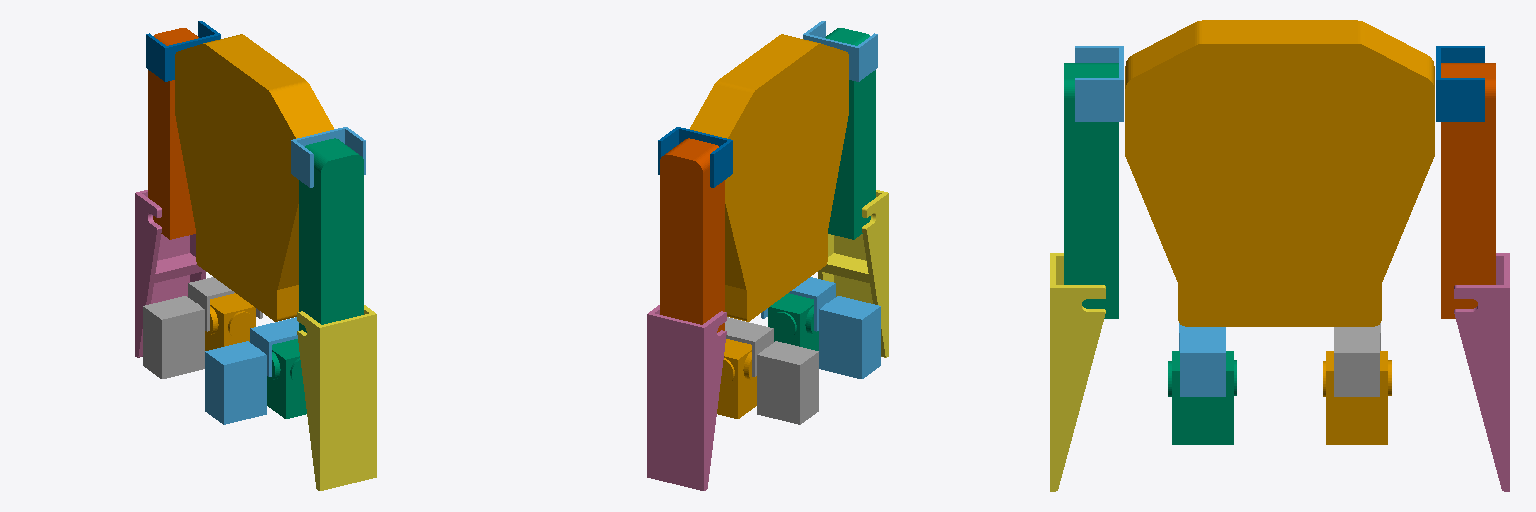
URDF robot description (Bogobot_V1):
<?xml version="1.0" ?>
<!-- =================================================================================== -->
<!-- |    This document was autogenerated by xacro from humanoid_main.urdf.xacro       | -->
<!-- |    EDITING THIS FILE BY HAND IS NOT RECOMMENDED                                 | -->
<!-- =================================================================================== -->
<robot name="Bogobot_V1">
  <link name="chest">
    <collision>
      <origin rpy="0 0 0" xyz="0 0 0.51"/>
      <geometry>
        <mesh filename="package://bogobot_rviz/meshes/torax_b4.STL" scale="0.001 0.001 0.001"/>
      </geometry>
    </collision>
    <visual>
      <origin rpy="0 0 0" xyz="0 0 0.51"/>
      <geometry>
        <!--box size="0.055 0.22 0.3"/-->
        <!--box size="0.055 0.22 0.22"/-->
        <mesh filename="package://bogobot_rviz/meshes/torax_b4.STL" scale="0.001 0.001 0.001"/>
      </geometry>
    </visual>
  </link>
  <link name="link_base_left_shoulder">
    <collision>
      <origin rpy="0 0 0" xyz="0.0 -0.0185 0.0"/>
      <geometry>
        <mesh filename="package://bogobot_rviz/meshes/metal_hombro_b4.STL" scale="0.001 0.001 0.001"/>
      </geometry>
    </collision>
    <visual>
      <origin rpy="0 0 0" xyz="0.0 -0.0185 0.0"/>
      <geometry>
        <mesh filename="package://bogobot_rviz/meshes/metal_hombro_b4.STL" scale="0.001 0.001 0.001"/>
      </geometry>
    </visual>
  </link>
  <link name="link_left_arm">
    <collision>
      <origin rpy="0 0 0" xyz="0.0 0 -0.082"/>
      <geometry>
        <mesh filename="package://bogobot_rviz/meshes/brazo_b4.STL" scale="0.001 0.001 0.001"/>
      </geometry>
    </collision>
    <visual>
      <origin rpy="0 0 0" xyz="0.0 0 -0.082"/>
      <geometry>
        <mesh filename="package://bogobot_rviz/meshes/brazo_b4.STL" scale="0.001 0.001 0.001"/>
      </geometry>
    </visual>
  </link>
  <link name="link_left_palm">
    <collision>
      <origin rpy="0 0 0" xyz="0.0 -0.01 -0.062"/>
      <geometry>
        <mesh filename="package://bogobot_rviz/meshes/palma_b4.STL" scale="0.001 0.001 0.001"/>
      </geometry>
    </collision>
    <visual>
      <origin rpy="0 0 0" xyz="0.0 -0.01 -0.062"/>
      <geometry>
        <mesh filename="package://bogobot_rviz/meshes/palma_b4.STL" scale="0.001 0.001 0.001"/>
      </geometry>
    </visual>
  </link>
  <link name="link_base_right_shoulder">
    <collision>
      <origin rpy="0 0 3.141592653589793" xyz="0.0 0.0185 0.0"/>
      <geometry>
        <mesh filename="package://bogobot_rviz/meshes/metal_hombro_b4.STL" scale="0.001 0.001 0.001"/>
      </geometry>
    </collision>
    <visual>
      <origin rpy="0 0 3.141592653589793" xyz="0.0 0.0185 0.0"/>
      <geometry>
        <mesh filename="package://bogobot_rviz/meshes/metal_hombro_b4.STL" scale="0.001 0.001 0.001"/>
      </geometry>
    </visual>
  </link>
  <link name="link_right_arm">
    <collision>
      <origin rpy="0 0 3.141592653589793" xyz="0.0 0 -0.082"/>
      <geometry>
        <mesh filename="package://bogobot_rviz/meshes/brazo_b4.STL" scale="0.001 0.001 0.001"/>
      </geometry>
    </collision>
    <visual>
      <origin rpy="0 0 3.141592653589793" xyz="0.0 0 -0.082"/>
      <geometry>
        <mesh filename="package://bogobot_rviz/meshes/brazo_b4.STL" scale="0.001 0.001 0.001"/>
      </geometry>
    </visual>
  </link>
  <link name="link_right_palm">
    <collision>
      <origin rpy="0 0 3.141592653589793" xyz="0.0 0.01 -0.062"/>
      <geometry>
        <mesh filename="package://bogobot_rviz/meshes/palma_b4.STL" scale="0.001 0.001 0.001"/>
      </geometry>
    </collision>
    <visual>
      <origin rpy="0 0 3.141592653589793" xyz="0.0 0.01 -0.062"/>
      <geometry>
        <mesh filename="package://bogobot_rviz/meshes/palma_b4.STL" scale="0.001 0.001 0.001"/>
      </geometry>
    </visual>
  </link>
  <link name="link_right_hip_metal">
    <collision>
      <origin rpy="0 0 0" xyz="0.0 0.0 -0.0175"/>
      <geometry>
        <mesh filename="package://bogobot_rviz/meshes/metal_cadera_b4.STL" scale="0.001 0.001 0.001"/>
      </geometry>
    </collision>
    <visual>
      <origin rpy="0 0 0" xyz="0.0 0.0 -0.0175"/>
      <geometry>
        <mesh filename="package://bogobot_rviz/meshes/metal_cadera_b4.STL" scale="0.001 0.001 0.001"/>
      </geometry>
    </visual>
  </link>
  <link name="link_right_hip_motor">
    <collision>
      <origin rpy="0 0 0" xyz="0.0 0.0 -0.0225"/>
      <geometry>
        <mesh filename="package://bogobot_rviz/meshes/motor_doble_join.STL" scale="0.001 0.001 0.001"/>
      </geometry>
    </collision>
    <visual>
      <origin rpy="0 0 0" xyz="0.0 0.0 -0.0225"/>
      <geometry>
        <mesh filename="package://bogobot_rviz/meshes/motor_doble_join.STL" scale="0.001 0.001 0.001"/>
      </geometry>
    </visual>
  </link>
  <link name="link_left_hip_metal">
    <collision>
      <origin rpy="0 0 0" xyz="0.0 0.0 -0.0175"/>
      <geometry>
        <mesh filename="package://bogobot_rviz/meshes/metal_cadera_b4.STL" scale="0.001 0.001 0.001"/>
      </geometry>
    </collision>
    <visual>
      <origin rpy="0 0 0" xyz="0.0 0.0 -0.0175"/>
      <geometry>
        <mesh filename="package://bogobot_rviz/meshes/metal_cadera_b4.STL" scale="0.001 0.001 0.001"/>
      </geometry>
    </visual>
  </link>
  <link name="link_left_hip_motor">
    <collision>
      <origin rpy="0 0 0" xyz="0.0 0.0 -0.0225"/>
      <geometry>
        <mesh filename="package://bogobot_rviz/meshes/motor_doble_join.STL" scale="0.001 0.001 0.001"/>
      </geometry>
    </collision>
    <visual>
      <origin rpy="0 0 0" xyz="0.0 0.0 -0.0225"/>
      <geometry>
        <mesh filename="package://bogobot_rviz/meshes/motor_doble_join.STL" scale="0.001 0.001 0.001"/>
      </geometry>
    </visual>
  </link>
  <!--JOINTS-->
  <!--hombro derecho-->
  <joint name="q1" type="revolute">
    <origin rpy="0 0 0" xyz="0 -0.11 0.58"/>
    <parent link="chest"/>
    <child link="link_base_left_shoulder"/>
    <axis xyz="0 1 0"/>
    <limit effort="2.5" lower="-6.283185307179586" upper="6.283185307179586" velocity="5.76"/>
  </joint>
  <!--brazo derecho-->
  <joint name="q3" type="revolute">
    <origin rpy="0 0 0" xyz="0 -0.024 0"/>
    <parent link="link_base_left_shoulder"/>
    <child link="link_left_arm"/>
    <axis xyz="1 0 0"/>
    <limit effort="2.5" lower="-6.283185307179586" upper="6.283185307179586" velocity="5.76"/>
  </joint>
  <!--palma derecho-->
  <joint name="q4" type="revolute">
    <origin rpy="0 0 0" xyz="0 0 -0.164"/>
    <parent link="link_left_arm"/>
    <child link="link_left_palm"/>
    <axis xyz="1 0 0"/>
    <limit effort="2.5" lower="-6.283185307179586" upper="6.283185307179586" velocity="5.76"/>
  </joint>
  <!--hombro izquierdo-->
  <joint name="q2" type="revolute">
    <origin rpy="0 0 0" xyz="0 0.11 0.58"/>
    <parent link="chest"/>
    <child link="link_base_right_shoulder"/>
    <axis xyz="0 1 0"/>
    <limit effort="2.5" lower="-6.283185307179586" upper="6.283185307179586" velocity="5.76"/>
  </joint>
  <!--brazo izquierdo-->
  <joint name="q5" type="revolute">
    <origin rpy="0 0 0" xyz="0 0.024 0"/>
    <parent link="link_base_right_shoulder"/>
    <child link="link_right_arm"/>
    <axis xyz="1 0 0"/>
    <limit effort="2.5" lower="-6.283185307179586" upper="6.283185307179586" velocity="5.76"/>
  </joint>
  <!--palma izquierdo-->
  <joint name="q6" type="revolute">
    <origin rpy="0 0 0" xyz="0 0 -0.164"/>
    <parent link="link_right_arm"/>
    <child link="link_right_palm"/>
    <axis xyz="1 0 0"/>
    <limit effort="2.5" lower="-6.283185307179586" upper="6.283185307179586" velocity="5.76"/>
  </joint>
  <!--pierna derecha-->
  <joint name="q7" type="revolute">
    <origin rpy="0 0 0" xyz="0 0.055 0.3825"/>
    <parent link="chest"/>
    <child link="link_right_hip_metal"/>
    <axis xyz="0 0 1"/>
    <limit effort="2.5" lower="-6.283185307179586" upper="6.283185307179586" velocity="5.76"/>
  </joint>
  <joint name="q9" type="revolute">
    <origin rpy="0 0 0" xyz="0 0 -0.025"/>
    <parent link="link_right_hip_metal"/>
    <child link="link_right_hip_motor"/>
    <axis xyz="1 0 0"/>
    <limit effort="2.5" lower="-6.283185307179586" upper="6.283185307179586" velocity="5.76"/>
  </joint>
  <!--pierna izquierda-->
  <joint name="q8" type="revolute">
    <origin rpy="0 0 0" xyz="0 -0.055 0.3825"/>
    <parent link="chest"/>
    <child link="link_left_hip_metal"/>
    <axis xyz="0 0 1"/>
    <limit effort="2.5" lower="-6.283185307179586" upper="6.283185307179586" velocity="5.76"/>
  </joint>
  <joint name="q10" type="revolute">
    <origin rpy="0 0 0" xyz="0 0 -0.025"/>
    <parent link="link_left_hip_metal"/>
    <child link="link_left_hip_motor"/>
    <axis xyz="1 0 0"/>
    <limit effort="2.5" lower="-6.283185307179586" upper="6.283185307179586" velocity="5.76"/>
  </joint>
</robot>

--- Facts derived from the render (not from the file) ---
3 views of the same robot in one strip: view 1: azimuth 30°, elevation 25°; view 2: azimuth 150°, elevation 25°; view 3: azimuth 270°, elevation 25° (orthographic).
Robot: Bogobot_V1 — 11 links, 10 joints (10 revolute); root link chest; default pose: every joint at zero.
Links seen in each view (by area): view 1: chest, link_left_palm, link_left_arm, link_right_arm, link_left_hip_metal, link_right_hip_metal, link_right_palm, link_left_hip_motor, link_right_hip_motor, link_base_left_shoulder, link_base_right_shoulder; view 2: chest, link_right_palm, link_right_arm, link_left_arm, link_right_hip_metal, link_left_hip_metal, link_left_palm, link_right_hip_motor, link_left_hip_motor, link_base_right_shoulder, link_base_left_shoulder; view 3: chest, link_left_arm, link_right_arm, link_left_palm, link_right_palm, link_right_hip_motor, link_left_hip_motor, link_right_hip_metal, link_left_hip_metal, link_base_left_shoulder, link_base_right_shoulder.
Link boxes in pixels (x1,y1,x2,y2): chest: (175, 34, 333, 321); link_left_palm: (297, 305, 376, 490); link_left_arm: (299, 138, 363, 332); link_right_arm: (148, 28, 198, 239); link_left_hip_metal: (205, 317, 298, 424); link_right_hip_metal: (143, 277, 262, 378); link_right_palm: (135, 190, 205, 357); link_left_hip_motor: (267, 339, 306, 418); link_right_hip_motor: (205, 293, 255, 350); link_base_left_shoulder: (291, 127, 365, 187); link_base_right_shoulder: (146, 21, 220, 81); chest: (690, 34, 848, 321); link_right_palm: (647, 305, 726, 490); link_right_arm: (660, 138, 724, 332); link_left_arm: (825, 28, 875, 239); link_right_hip_metal: (725, 317, 818, 424); link_left_hip_metal: (761, 277, 880, 378); link_left_palm: (818, 190, 888, 357); link_right_hip_motor: (717, 339, 756, 418); link_left_hip_motor: (768, 293, 818, 350); link_base_right_shoulder: (658, 127, 732, 187); link_base_left_shoulder: (803, 21, 877, 81); chest: (1125, 20, 1434, 326); link_left_arm: (1064, 63, 1118, 318); link_right_arm: (1441, 63, 1495, 318); link_left_palm: (1050, 253, 1105, 491); link_right_palm: (1454, 253, 1509, 491); link_right_hip_motor: (1323, 351, 1391, 444); link_left_hip_motor: (1168, 351, 1236, 444); link_right_hip_metal: (1334, 323, 1380, 396); link_left_hip_metal: (1179, 323, 1225, 396); link_base_left_shoulder: (1075, 46, 1123, 121); link_base_right_shoulder: (1436, 46, 1484, 121).
Bounding box of the posed robot: 0.1039 × 0.328 × 0.347 m (x, y, z).
11 mesh visuals loaded from 6 distinct referenced files (6 binary STL).
